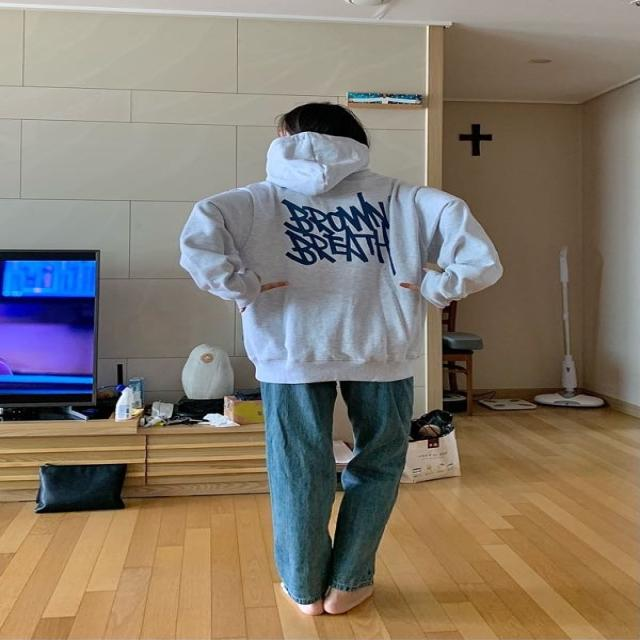denimpants: (257, 373, 411, 604)
hoodies: (176, 130, 500, 389)
